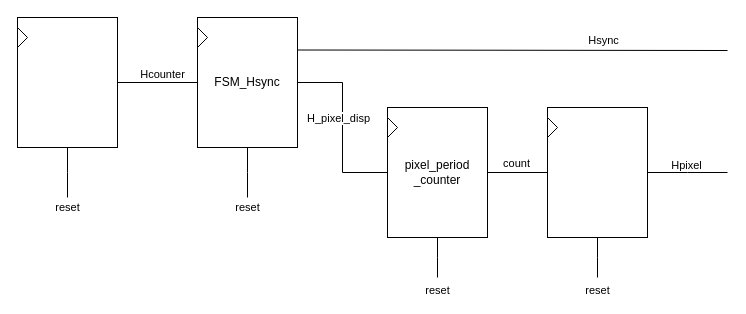
The diagram is 746 pixels wide and 314 high, and some of its shapes have lost their labels. Here are the shapes that lost their labels. From the top down, the box of each, then its label:
(16, 16, 118, 148): counter_Hsync
(546, 106, 648, 238): Hpixel_count
